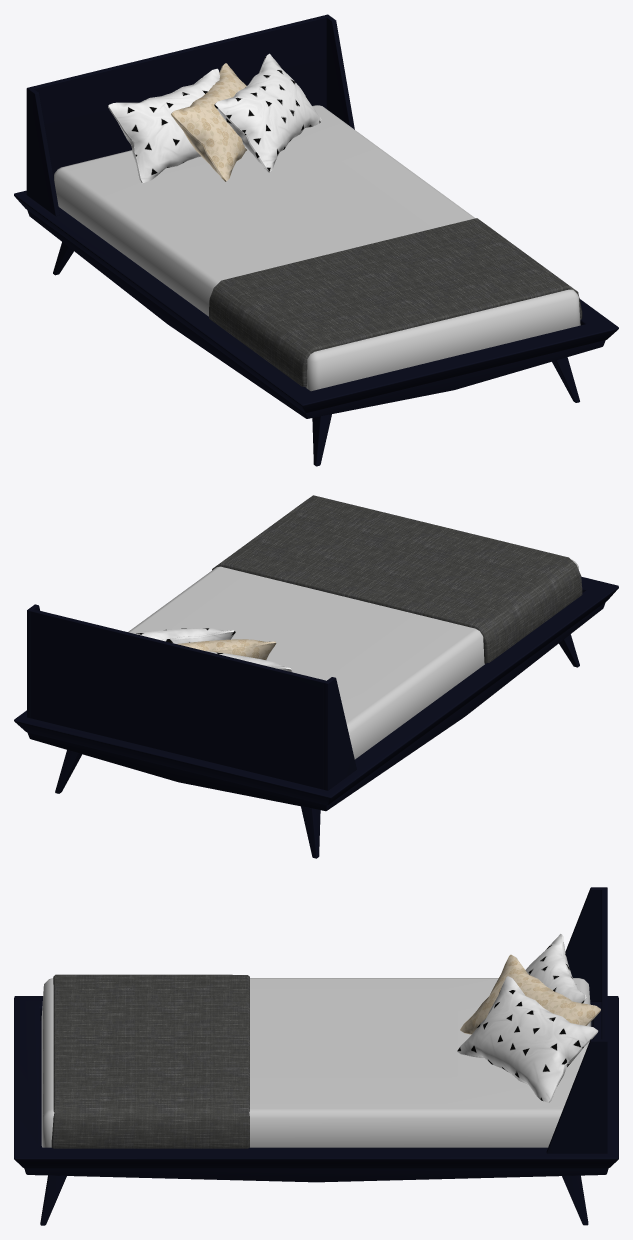
Rendered from black bed.fbx.
3 views of the same model, one above another, from view 1: azimuth 30°, elevation 25°; view 2: azimuth 150°, elevation 25°; view 3: azimuth 270°, elevation 25° (orthographic). The views are drawn at different scales.
Parts seen in each view (by area): view 1: polySurface2; view 2: polySurface2; view 3: polySurface2.
Boxes of the visible parts, x1,y1,x2,y2 form: polySurface2: [14, 14, 618, 466]; polySurface2: [14, 495, 618, 858]; polySurface2: [14, 887, 618, 1225].
Size of the model in its own units: 139 by 77.51 by 219.
